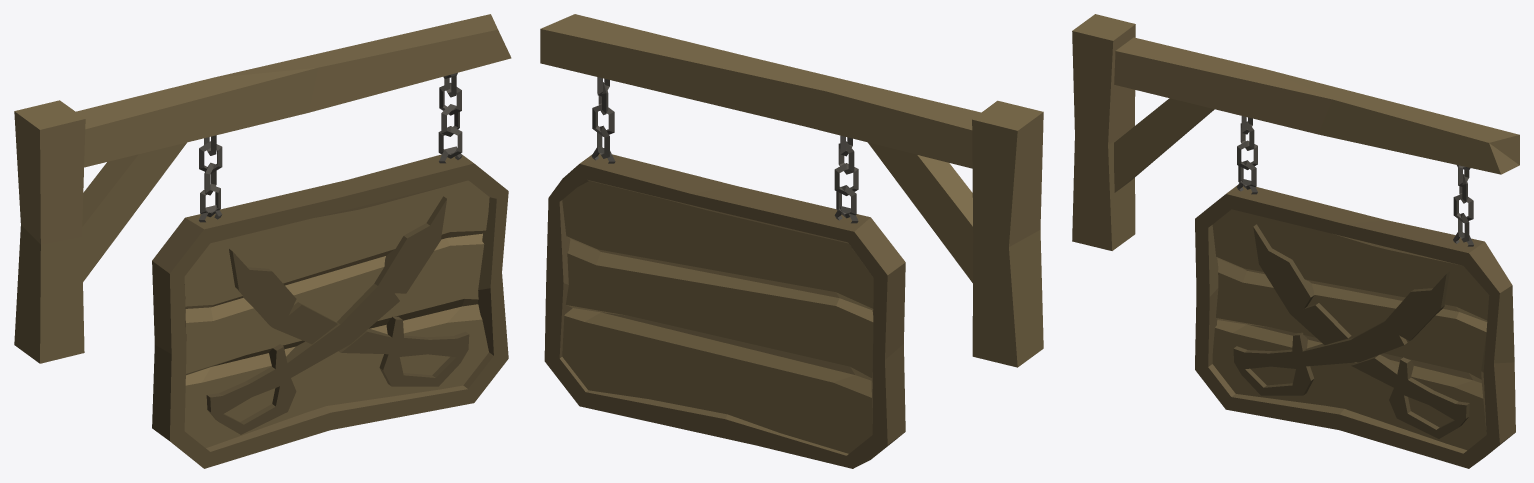
The model's file is Signboard_5.fbx.
3 views of the same model, side by side, from view 1: azimuth 30°, elevation 25°; view 2: azimuth 150°, elevation 25°; view 3: azimuth 330°, elevation 25° (orthographic). The views are drawn at different scales.
Visible parts, largest first — view 1: Signboard_5; view 2: Signboard_5; view 3: Signboard_5.
Boxes of the visible parts, x1,y1,x2,y2 form: Signboard_5: (14, 14, 511, 468); Signboard_5: (540, 14, 1043, 468); Signboard_5: (1072, 14, 1519, 468).
Bounding box in the file's own units: 98.31 × 75.74 × 9.98.
